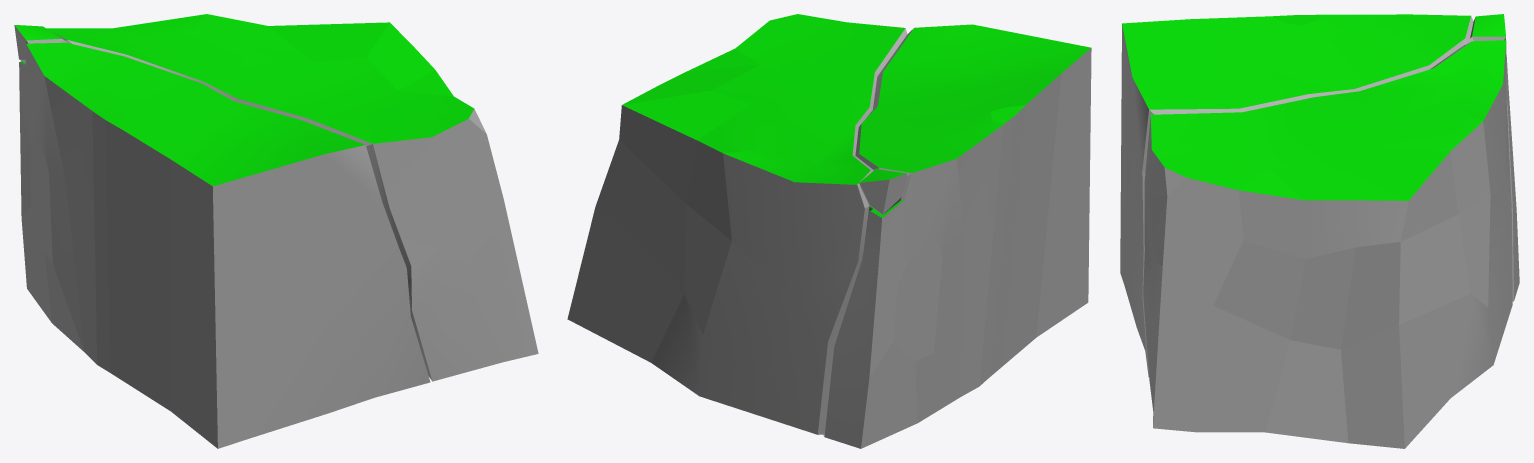
Rendered from rock_beach_medium_C.fbx.
3 renders of one model, left to right at view 1: azimuth 30°, elevation 25°; view 2: azimuth 150°, elevation 25°; view 3: azimuth 270°, elevation 25°, orthographic. The views are drawn at different scales.
Visible parts, largest first — view 1: rock_beach_medium_C; view 2: rock_beach_medium_C; view 3: rock_beach_medium_C.
Part boxes in pixels (<box>): rock_beach_medium_C: <box>14,14,538,448</box>; rock_beach_medium_C: <box>567,14,1091,448</box>; rock_beach_medium_C: <box>1120,14,1519,448</box>.
Bounding box in the file's own units: 77.14 × 50.4 × 70.44.
